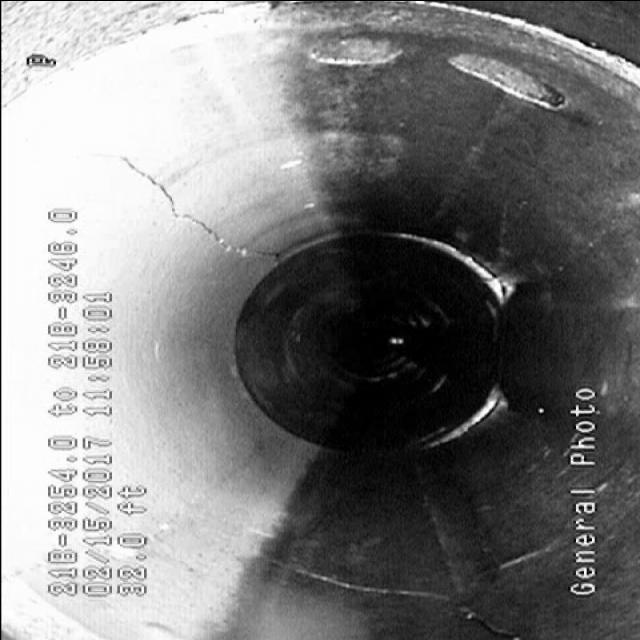Fracture: (100, 147, 284, 256)
